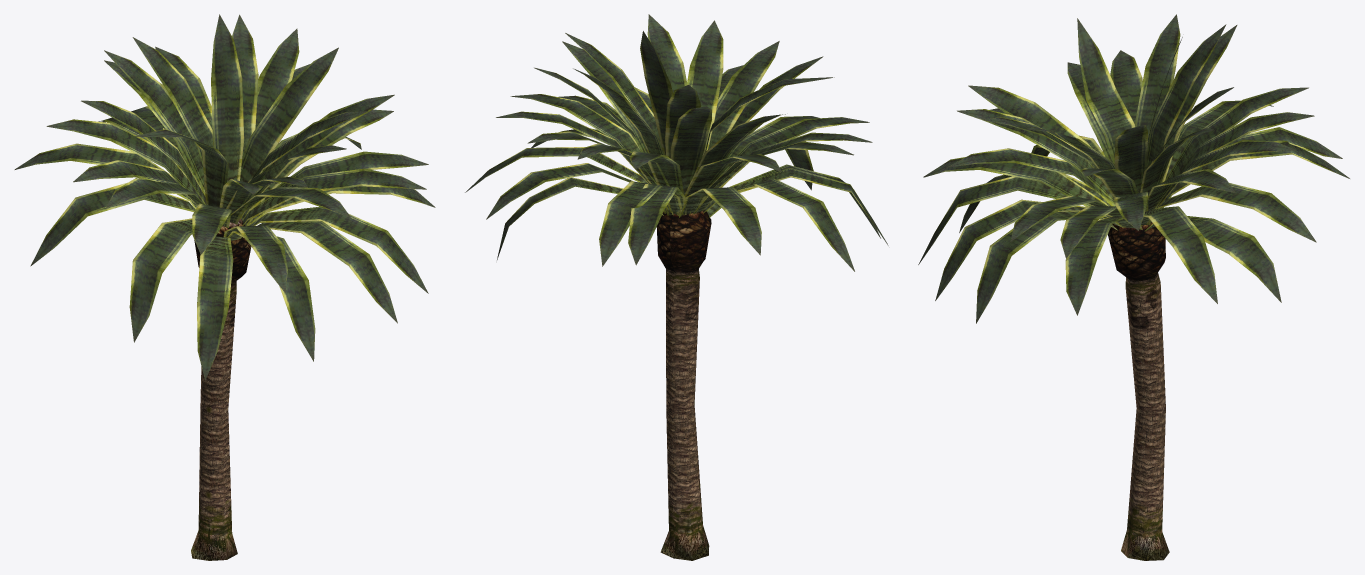
File: PalmTreeFBX.fbx
The picture shows the model from 3 angles, left to right: view 1: azimuth 30°, elevation 25°; view 2: azimuth 150°, elevation 25°; view 3: azimuth 270°, elevation 25°; orthographic projection.
Parts seen in each view (by area): view 1: ENV_MP_Iraq_PalmTree_01; view 2: ENV_MP_Iraq_PalmTree_01; view 3: ENV_MP_Iraq_PalmTree_01.
Part boxes in pixels (x1,y1,x2,y2): ENV_MP_Iraq_PalmTree_01: (14,14,435,560); ENV_MP_Iraq_PalmTree_01: (465,14,888,560); ENV_MP_Iraq_PalmTree_01: (918,14,1349,560).
Size of the model in its own units: 10.63 by 14.54 by 10.76.
Materials: 2 (2 with a texture image).
